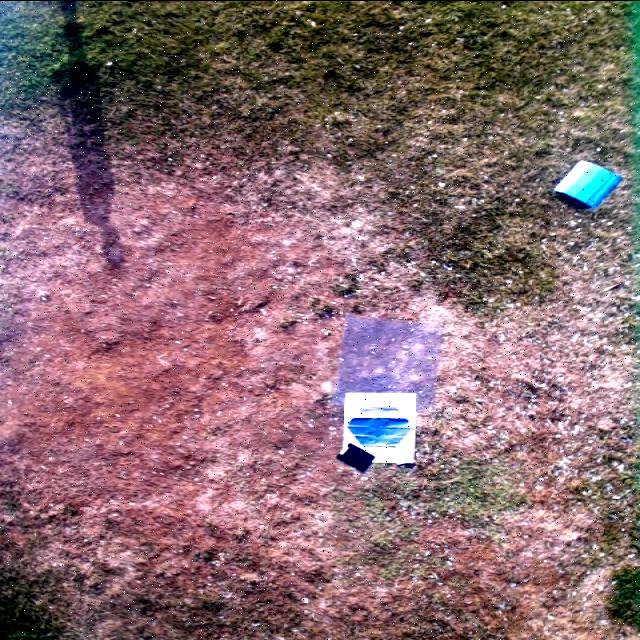blue_square: (552, 158, 622, 207)
